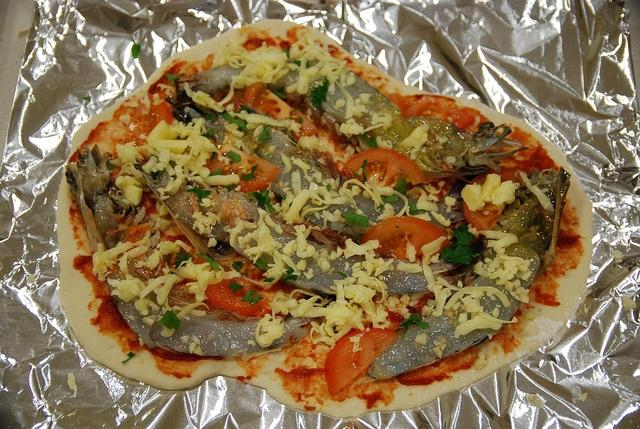tomato: (324, 327, 398, 395), (360, 216, 450, 266), (204, 144, 282, 193), (205, 278, 299, 318), (340, 148, 428, 190), (243, 82, 280, 120), (463, 199, 506, 231), (401, 95, 434, 118), (152, 101, 174, 125), (454, 113, 476, 129)
